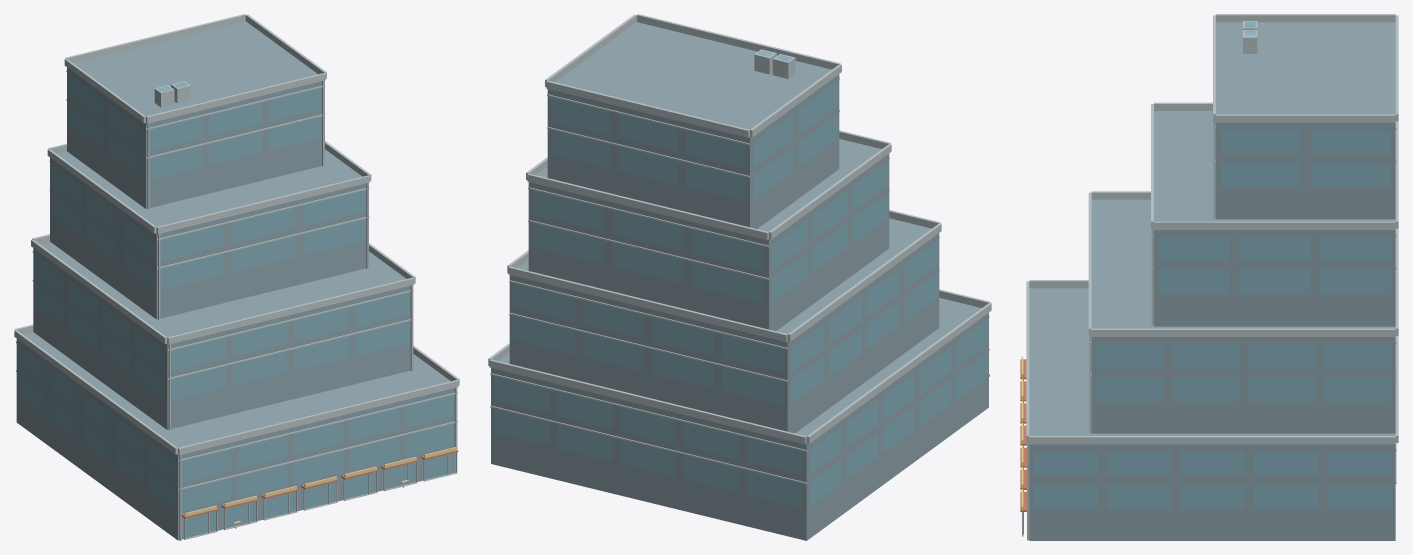
File: commercial_4x4_terraces.glb
3 renders of one model, left to right at view 1: azimuth 30°, elevation 25°; view 2: azimuth 150°, elevation 25°; view 3: azimuth 270°, elevation 25°, orthographic. The views are drawn at different scales.
Visible parts, largest first — view 1: commercial_4x4_terraces_0; view 2: commercial_4x4_terraces_0; view 3: commercial_4x4_terraces_0.
Boxes of the visible parts, box(x1,y1,x2,y2) form: commercial_4x4_terraces_0: box(14, 14, 459, 540); commercial_4x4_terraces_0: box(488, 14, 991, 540); commercial_4x4_terraces_0: box(1020, 14, 1398, 540).
Bounding box in the file's own units: 31 × 37.5 × 31.5.
